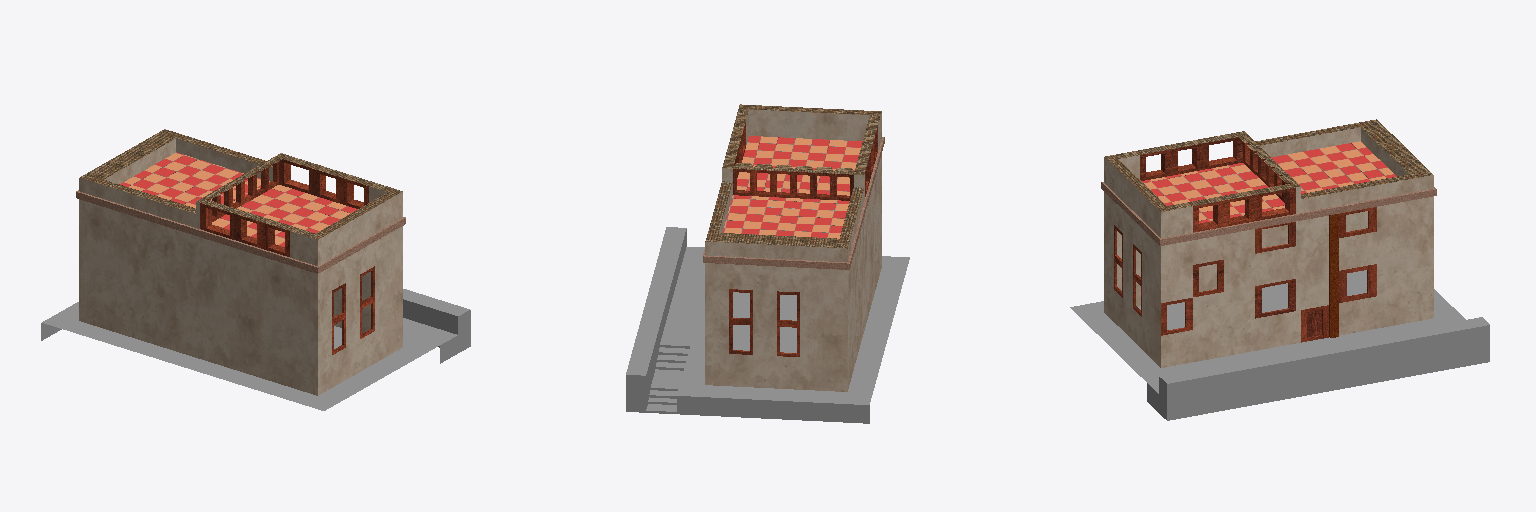
3 views of the same model, side by side, from view 1: azimuth 30°, elevation 25°; view 2: azimuth 150°, elevation 25°; view 3: azimuth 270°, elevation 25° (orthographic).
Visible parts, largest first — view 1: Cube.015_Cube.087, Cube.016_Cube.086; view 2: Cube.015_Cube.087, Cube.016_Cube.086; view 3: Cube.015_Cube.087, Cube.016_Cube.086.
Boxes of the visible parts, box(x1,y1,x2,y2) form: Cube.015_Cube.087: box(76, 129, 405, 395); Cube.016_Cube.086: box(41, 289, 470, 410); Cube.015_Cube.087: box(703, 104, 884, 391); Cube.016_Cube.086: box(626, 227, 909, 423); Cube.015_Cube.087: box(1101, 119, 1436, 367); Cube.016_Cube.086: box(1070, 270, 1489, 420).
Size of the model in its own units: 35.68 by 18.96 by 41.11.
Materials: 2 (1 with a texture image).